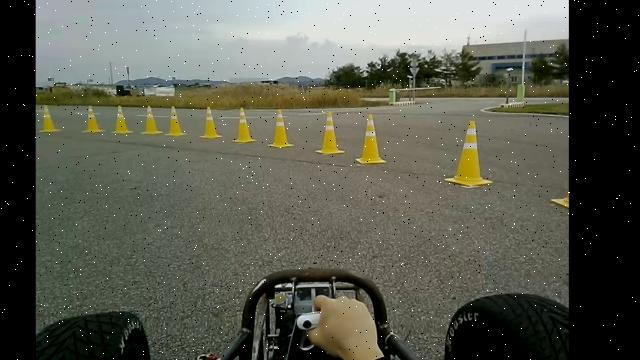yellow cone: (443, 120, 492, 187), (355, 114, 386, 165), (315, 111, 345, 155), (267, 108, 294, 148), (232, 107, 256, 143), (198, 106, 222, 138), (164, 105, 187, 136), (141, 104, 163, 135), (82, 105, 106, 133), (111, 104, 133, 134), (39, 104, 61, 132)
